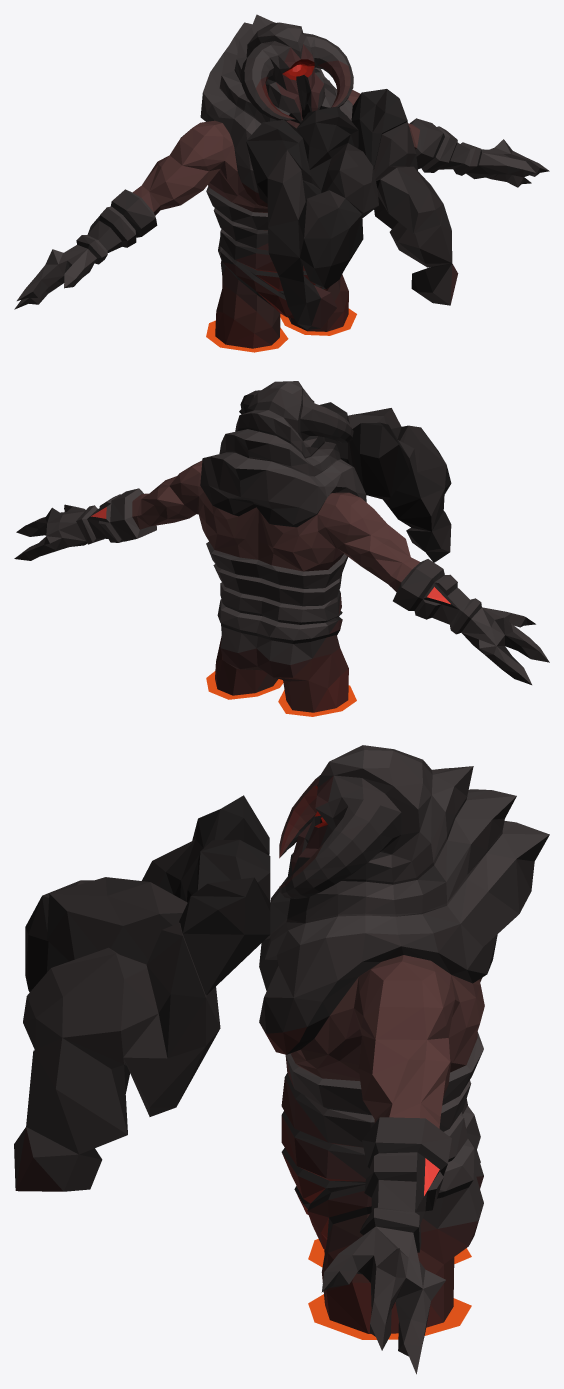
File: inferno.gltf
3 renders of one model, top to bottom at view 1: azimuth 30°, elevation 25°; view 2: azimuth 150°, elevation 25°; view 3: azimuth 270°, elevation 25°, orthographic. The views are drawn at different scales.
Bounding box in the file's own units: 1346 × 729 × 667.
1 material, 1 textured.
